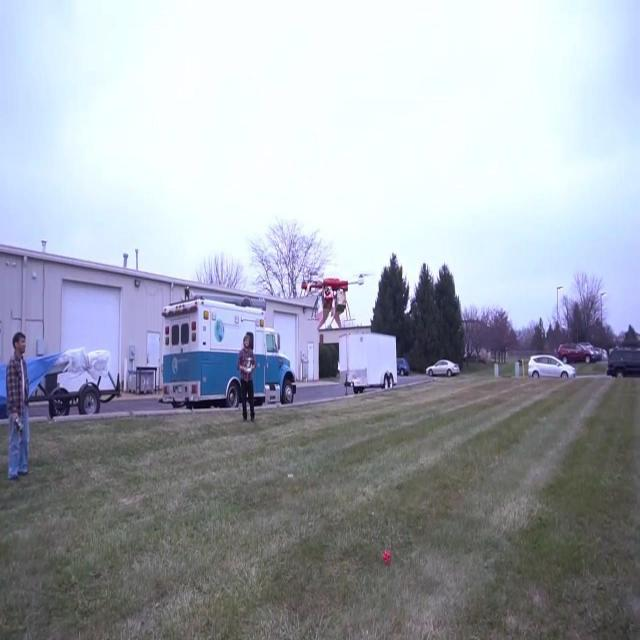UAV: (301, 274, 371, 330)
